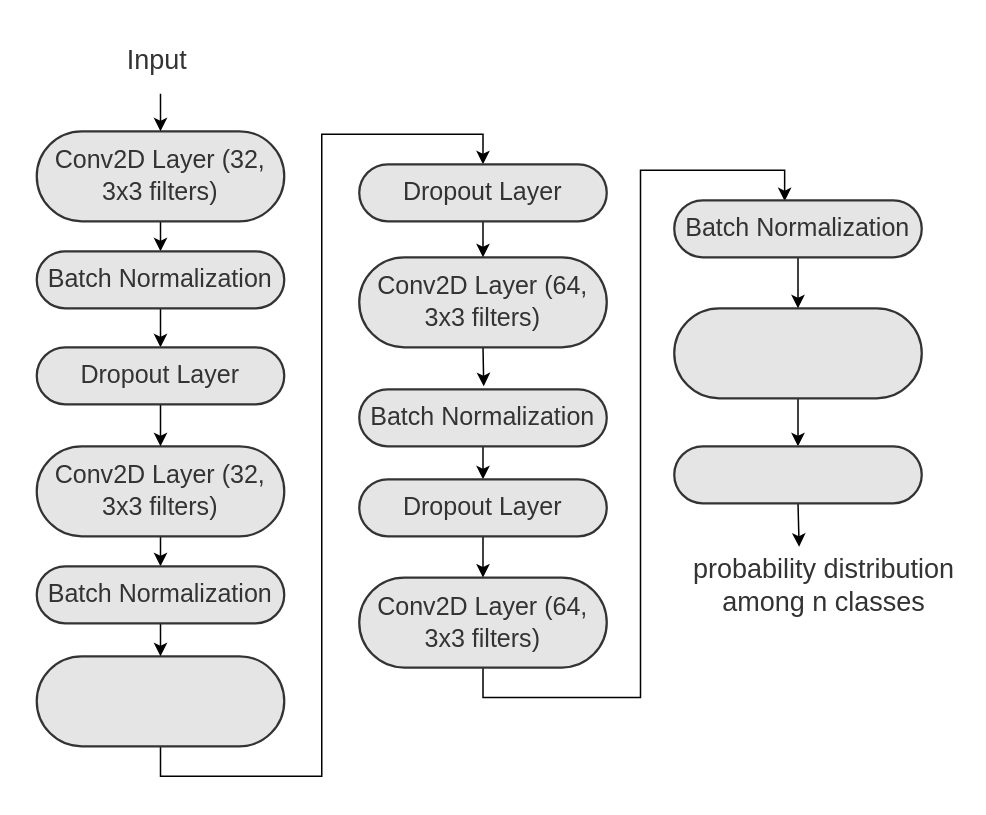
Some shapes in this 986 by 815 pixel diagram are drawn without their labels. The shapes that lost their labels are listed below. From the top down, each one's box as (x1, y1, x2, y2) in pixels, then its label:
(672, 306, 922, 399): Global Average Pooling
(672, 444, 922, 504): Dense Layer
(35, 654, 285, 747): MaxPooling (pool size = 2x2)
